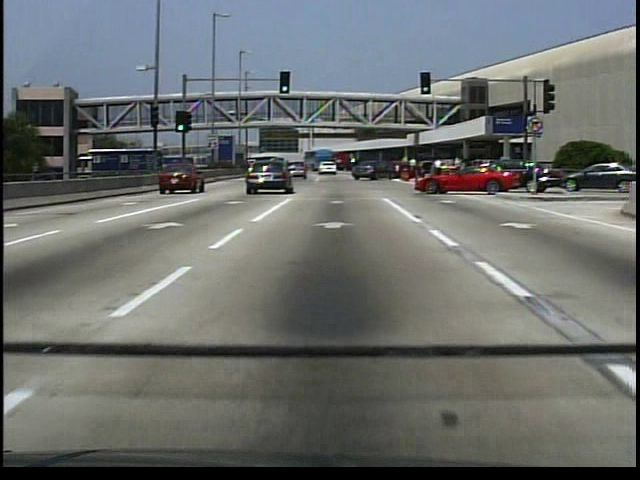person: (409, 159, 419, 182), (435, 159, 443, 176), (228, 112, 236, 126)
